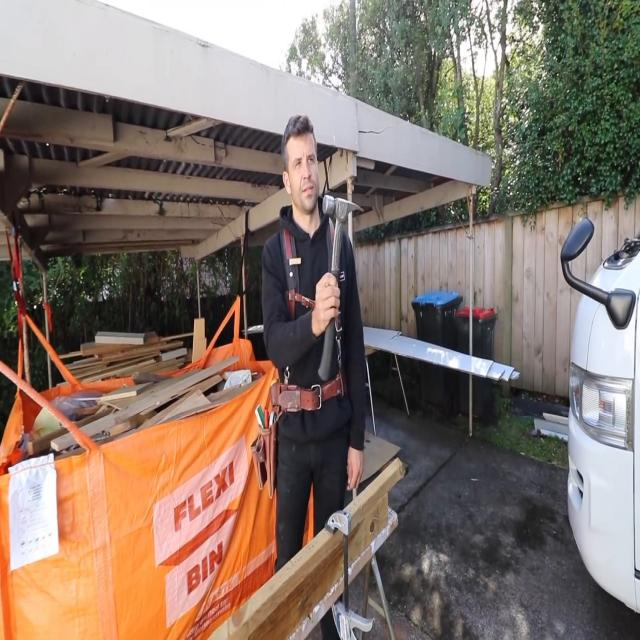hammer: (316, 192, 366, 386)
